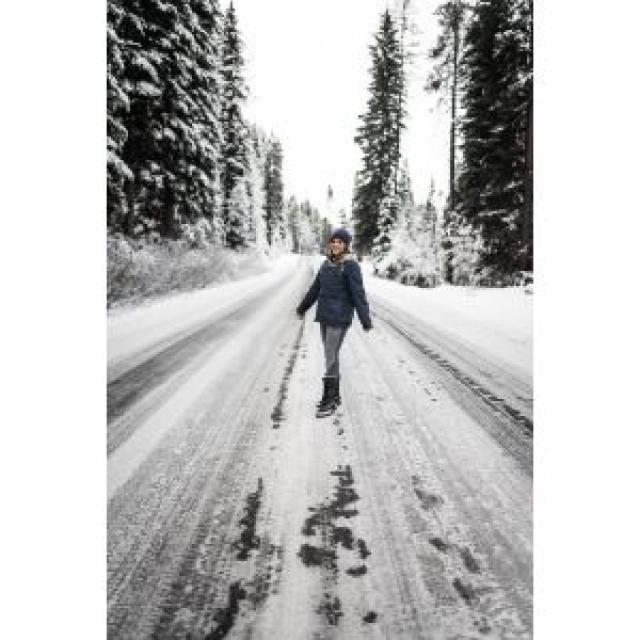nonfall: (288, 226, 381, 438)
